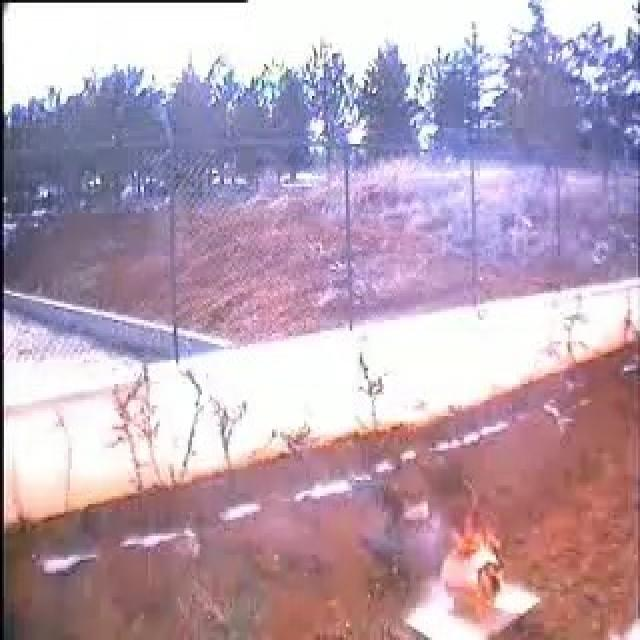fire: (442, 520, 501, 618)
smoke: (381, 503, 437, 584)
